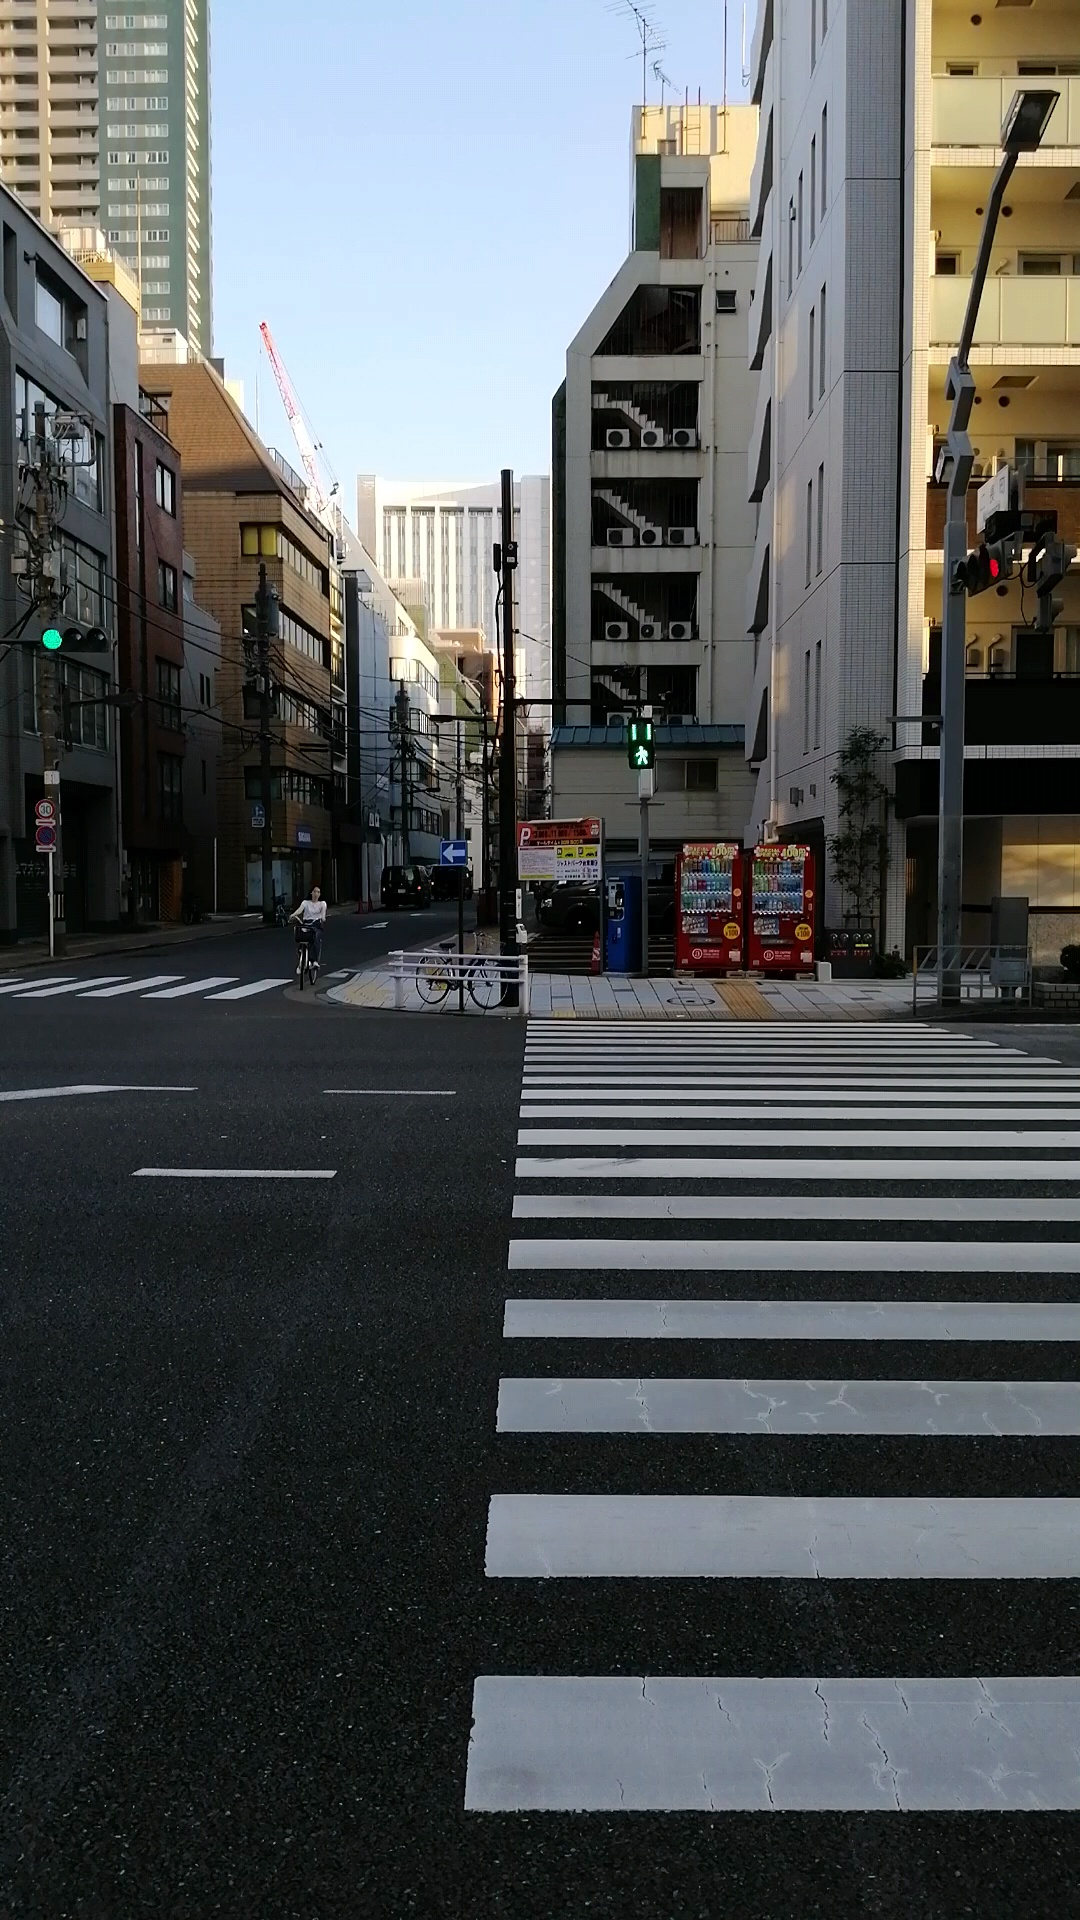green: (626, 717, 655, 770)
